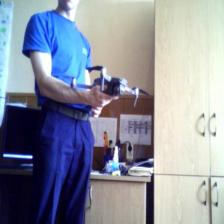drone: (61, 58, 154, 115)
